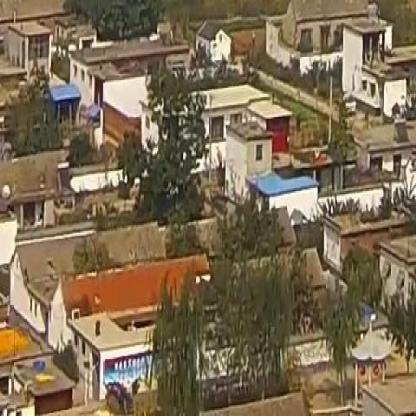other: (55, 264, 213, 298), (267, 112, 292, 150), (1, 321, 30, 350)
